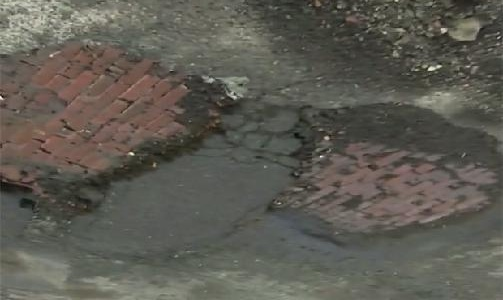pothole: (0, 43, 248, 222), (263, 102, 503, 244)
